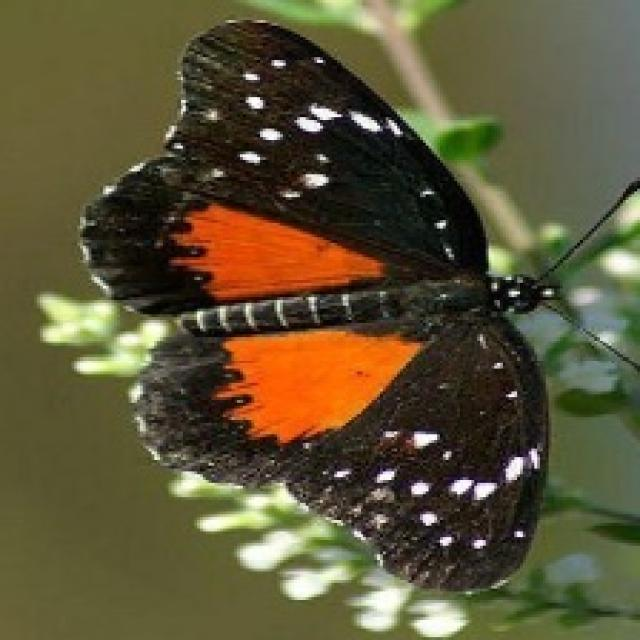butterfly: (74, 14, 637, 594)
